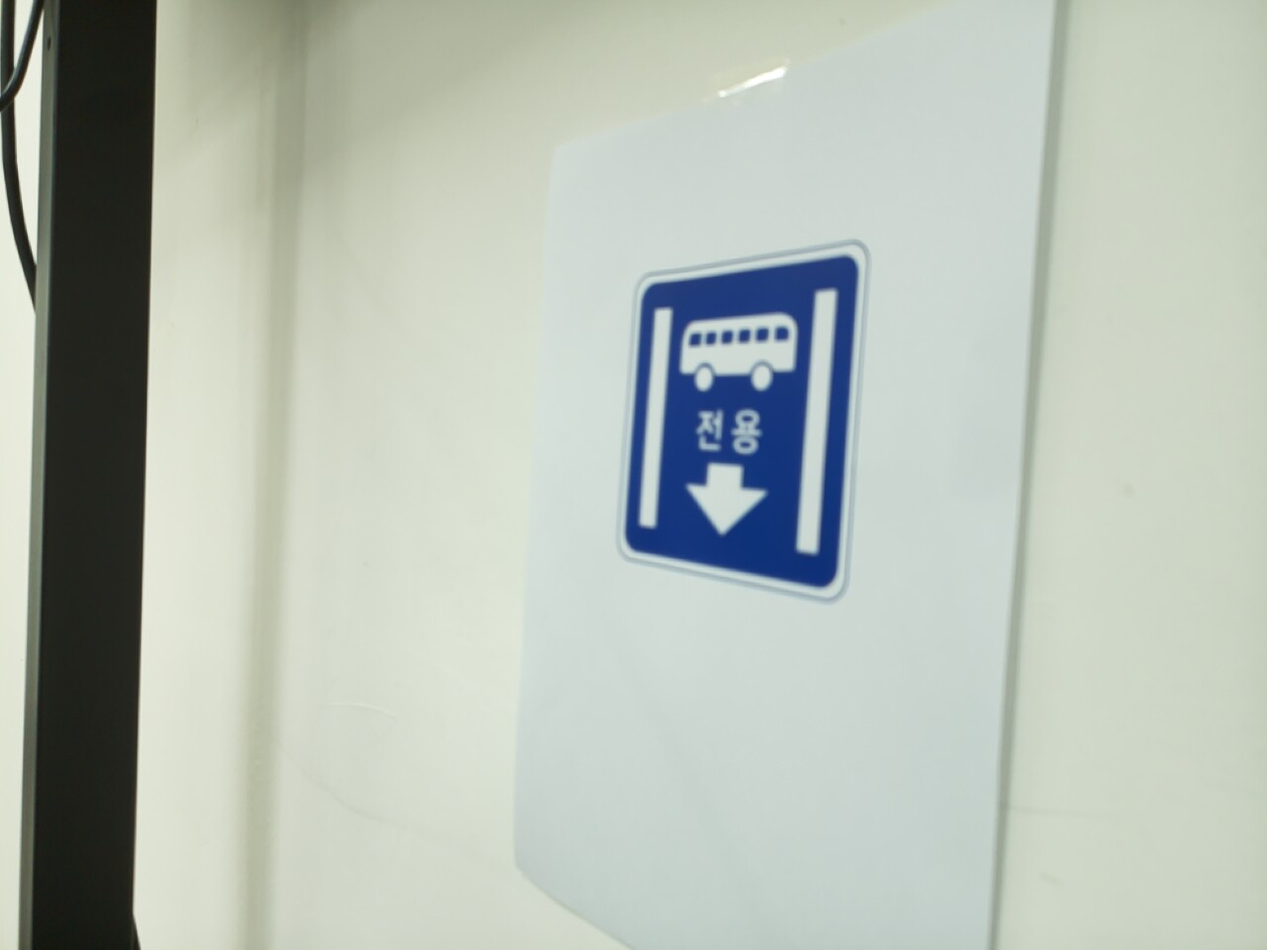bus_only_lane: (617, 245, 867, 598)
